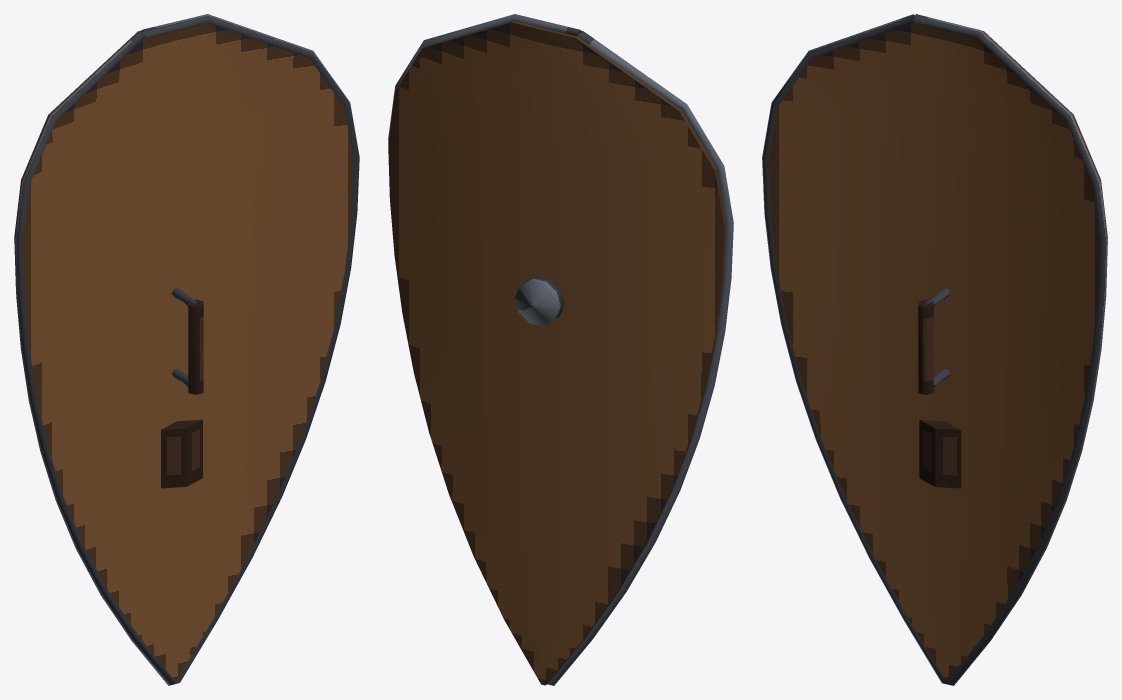
Rendered from knights_kite.glb.
The picture shows the model from 3 angles, left to right: view 1: azimuth 30°, elevation 25°; view 2: azimuth 150°, elevation 25°; view 3: azimuth 330°, elevation 25°; orthographic projection.
Visible parts, largest first — view 1: knights_kite; view 2: knights_kite; view 3: knights_kite.
Boxes of the visible parts, left/top/right/bottom form: knights_kite: left=14, top=14, right=359, bottom=685; knights_kite: left=388, top=14, right=733, bottom=685; knights_kite: left=762, top=14, right=1107, bottom=685.
Bounding box in the file's own units: 0.4939 × 0.9053 × 0.102.
1 material, 1 textured.
